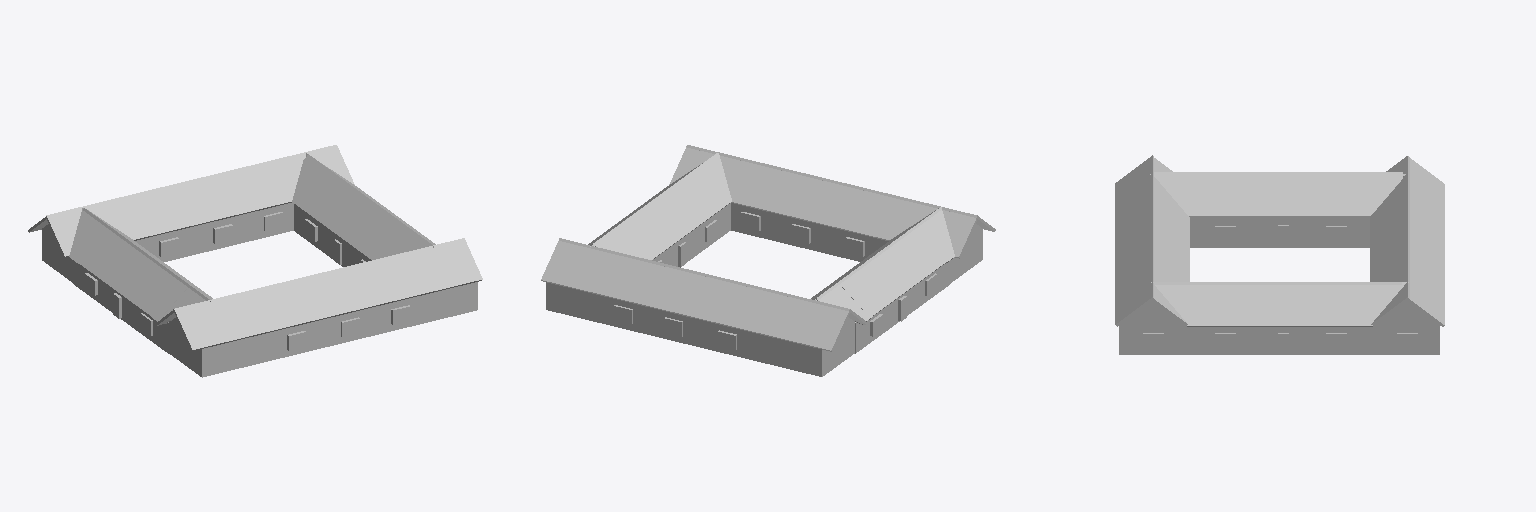
The model's file is villa_russian.obj.
3 views of the same model, side by side, from view 1: azimuth 30°, elevation 25°; view 2: azimuth 150°, elevation 25°; view 3: azimuth 270°, elevation 25° (orthographic).
Parts seen in each view (by area): view 1: mesh[number redacted].001, mesh[number redacted], mesh[number redacted].002, mesh[number redacted], mesh[number redacted].002_mesh[number redacted].004, mesh[number redacted], mesh[number redacted].002, mesh[number redacted], mesh[number redacted].001, mesh[number redacted].001_mesh[number redacted].005; view 2: mesh[number redacted], mesh[number redacted].001, mesh[number redacted], mesh[number redacted], mesh[number redacted].002_mesh[number redacted].004, mesh[number redacted].002, mesh[number redacted].002, mesh[number redacted], mesh[number redacted], mesh[number redacted].001, mesh[number redacted].001, mesh[number redacted].001_mesh[number redacted].005 (+1 smaller); view 3: mesh[number redacted].001, mesh[number redacted], mesh[number redacted].001, mesh[number redacted], mesh[number redacted].002, mesh[number redacted], mesh[number redacted], mesh[number redacted].001, mesh[number redacted].002, mesh[number redacted], mesh[number redacted].004, mesh[number redacted] (+1 smaller).
Part boxes in pixels (x1,y1,x2,y2): mesh[number redacted].001: (173,238,482,350); mesh[number redacted]: (46,145,354,257); mesh[number redacted].002: (169,282,477,377); mesh[number redacted]: (292,154,432,259); mesh[number redacted].002_mesh[number redacted].004: (75,227,187,320); mesh[number redacted]: (42,202,293,282); mesh[number redacted].002: (73,260,168,353); mesh[number redacted]: (294,204,371,266); mesh[number redacted].001: (83,208,212,300); mesh[number redacted].001_mesh[number redacted].005: (69,208,104,263); mesh[number redacted]: (541,241,849,351); mesh[number redacted].001: (669,147,976,258); mesh[number redacted]: (546,282,854,376); mesh[number redacted]: (592,153,731,259); mesh[number redacted].002_mesh[number redacted].004: (840,224,952,317); mesh[number redacted].002: (731,203,982,282); mesh[number redacted].002: (855,260,950,353); mesh[number redacted]: (652,203,730,266); mesh[number redacted]: (559,238,867,325); mesh[number redacted].001: (686,145,995,231); mesh[number redacted].001: (811,207,941,300); mesh[number redacted].001_mesh[number redacted].005: (815,285,872,324); mesh[number redacted].001: (1154,172,1402,215); mesh[number redacted]: (1192,285,1372,326); mesh[number redacted].001: (1115,155,1153,326); mesh[number redacted]: (1406,158,1444,326); mesh[number redacted].002: (1189,216,1369,247); mesh[number redacted]: (1184,325,1374,354); mesh[number redacted]: (1370,156,1409,325); mesh[number redacted].001: (1151,158,1189,326); mesh[number redacted].002: (1119,301,1183,354); mesh[number redacted]: (1375,301,1439,354); mesh[number redacted].004: (1150,282,1191,326); mesh[number redacted]: (1153,282,1401,284).
Size of the model in its own units: 1.46 by 0.2871 by 1.43.